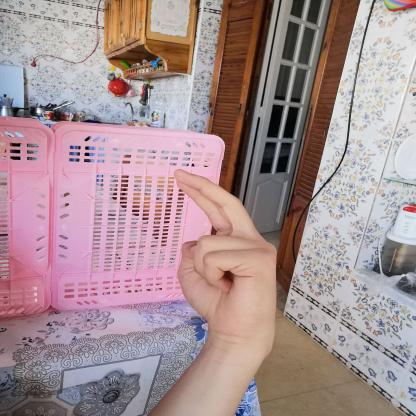ZAY: (161, 160, 290, 352)
